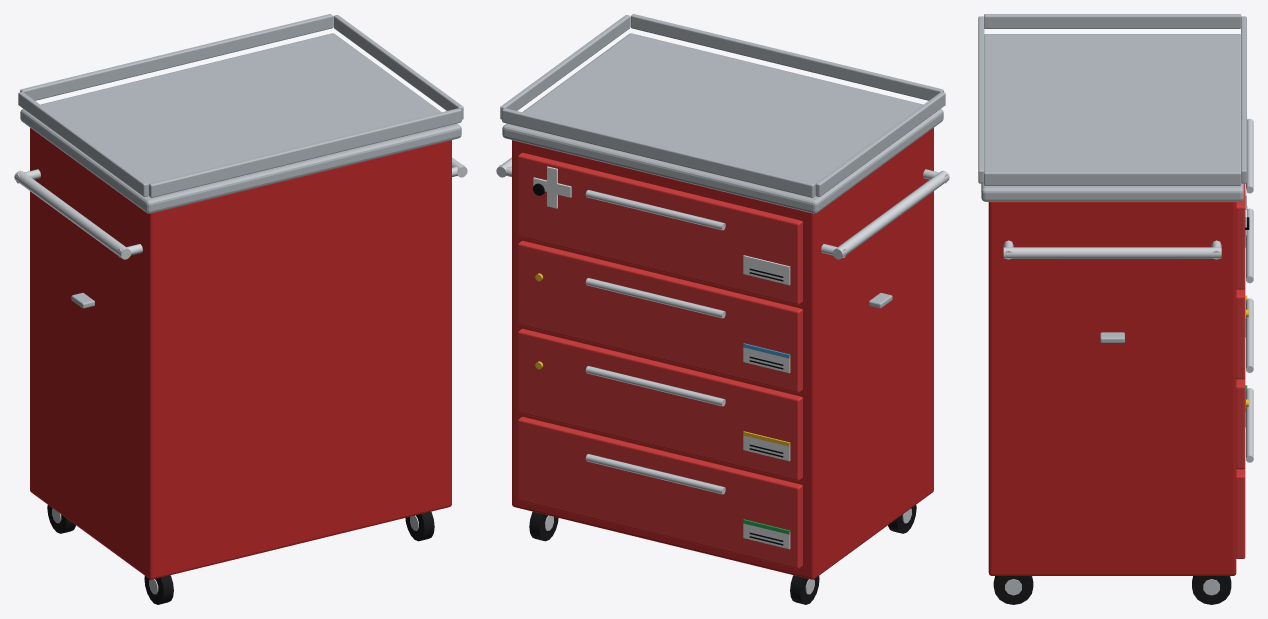
Rendered from Crash_Cart_Trolley.glb.
The picture shows the model from 3 angles, left to right: view 1: azimuth 30°, elevation 25°; view 2: azimuth 150°, elevation 25°; view 3: azimuth 270°, elevation 25°; orthographic projection.
Parts seen in each view (by area): view 1: Body.003, Top.002, TopRail, TopRail.001, TopRailSide, TopRailSide.001, SideBar; view 2: Body.003, Top.002, Drawer1.001, Drawer3.001, Drawer2.001, Drawer4.001, TopRail.001, TopRail, TopRailSide, TopRailSide.001, SideBar, Handle3.001 (+7 smaller); view 3: Body.003, Top.002, TopRailSide.001, TopRailSide, SideBar.001, TopRail, TopRail.001, Drawer4.001, Drawer3.001, Drawer2.001, Drawer1.001, Wheel.028 (+5 smaller).
Boxes of the visible parts, x1=… form: Body.003: x1=30, y1=128, x2=451, y2=579; Top.002: x1=20, y1=33, x2=461, y2=213; TopRail: x1=148, y1=108, x2=461, y2=197; TopRail.001: x1=20, y1=14, x2=333, y2=100; TopRailSide: x1=18, y1=91, x2=148, y2=196; TopRailSide.001: x1=333, y1=15, x2=463, y2=119; SideBar: x1=14, y1=170, x2=131, y2=259; Body.003: x1=512, y1=128, x2=933, y2=579; Top.002: x1=502, y1=33, x2=943, y2=213; Drawer1.001: x1=517, y1=417, x2=802, y2=568; Drawer3.001: x1=517, y1=240, x2=802, y2=392; Drawer2.001: x1=517, y1=328, x2=802, y2=480; Drawer4.001: x1=517, y1=152, x2=802, y2=304; TopRail.001: x1=502, y1=108, x2=815, y2=197; TopRail: x1=630, y1=14, x2=943, y2=100; TopRailSide: x1=815, y1=91, x2=945, y2=196; TopRailSide.001: x1=500, y1=15, x2=630, y2=119; SideBar: x1=832, y1=170, x2=949, y2=259; Handle3.001: x1=585, y1=278, x2=725, y2=318; Body.003: x1=988, y1=202, x2=1236, y2=575; Top.002: x1=981, y1=34, x2=1243, y2=201; TopRailSide.001: x1=984, y1=171, x2=1241, y2=185; TopRailSide: x1=984, y1=14, x2=1241, y2=28; SideBar.001: x1=1003, y1=247, x2=1221, y2=258; TopRail: x1=978, y1=16, x2=984, y2=183; TopRail.001: x1=1241, y1=16, x2=1246, y2=183; Drawer4.001: x1=1236, y1=183, x2=1245, y2=289; Drawer3.001: x1=1236, y1=288, x2=1245, y2=379; Drawer2.001: x1=1236, y1=378, x2=1245, y2=469; Drawer1.001: x1=1236, y1=468, x2=1245, y2=558; Wheel.028: x1=993, y1=576, x2=1033, y2=604.
Bounding box in the file's own units: 0.824 × 0.99 × 0.5556.
